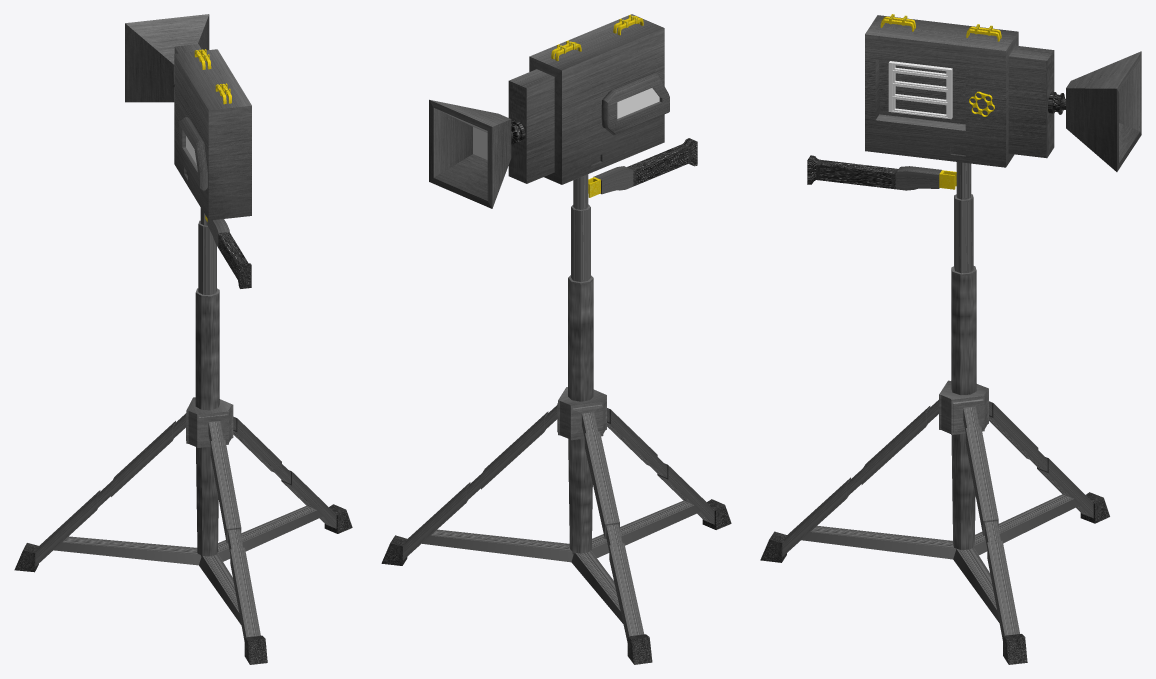
The model's file is tripie2.obj.
The picture shows the model from 3 angles, left to right: view 1: azimuth 30°, elevation 25°; view 2: azimuth 150°, elevation 25°; view 3: azimuth 270°, elevation 25°; orthographic projection. The views are drawn at different scales.
Parts seen in each view (by area): view 1: polySurface41 polySurface111, polySurface41 polySurface66, polySurface41 polySurface75, polySurface41 polySurface48, polySurface41 polySurface103, polySurface41 polySurface54, polySurface41 polySurface92, polySurface41 polySurface76; view 2: polySurface41 polySurface66, polySurface41 polySurface111, polySurface41 polySurface75, polySurface41 polySurface103, polySurface41 polySurface54, polySurface41 polySurface109, polySurface41 polySurface48, polySurface41 polySurface117, polySurface41 polySurface71, polySurface41 polySurface69, polySurface41 polySurface63; view 3: polySurface41 polySurface66, polySurface41 polySurface111, polySurface41 polySurface75, polySurface41 polySurface48, polySurface41 polySurface54, polySurface41 polySurface83, polySurface41 polySurface107, polySurface41 polySurface96, polySurface41 polySurface92.
Part boxes in pixels (box(x1,y1,x2,y2)): polySurface41 polySurface111: box(35, 397, 336, 641); polySurface41 polySurface66: box(174, 44, 251, 220); polySurface41 polySurface75: box(195, 208, 219, 556); polySurface41 polySurface48: box(127, 14, 208, 102); polySurface41 polySurface103: box(179, 117, 207, 190); polySurface41 polySurface54: box(207, 219, 251, 288); polySurface41 polySurface92: box(168, 16, 204, 46); polySurface41 polySurface76: box(244, 635, 267, 664); polySurface41 polySurface66: box(508, 14, 664, 184); polySurface41 polySurface111: box(403, 387, 714, 642); polySurface41 polySurface75: box(568, 174, 593, 554); polySurface41 polySurface103: box(601, 72, 669, 135); polySurface41 polySurface54: box(593, 138, 697, 194); polySurface41 polySurface109: box(436, 109, 470, 175); polySurface41 polySurface48: box(432, 100, 511, 206); polySurface41 polySurface117: box(436, 154, 483, 189); polySurface41 polySurface71: box(627, 634, 652, 664); polySurface41 polySurface69: box(460, 113, 492, 208); polySurface41 polySurface63: box(462, 160, 487, 198); polySurface41 polySurface66: box(865, 15, 1054, 167); polySurface41 polySurface111: box(782, 380, 1093, 640); polySurface41 polySurface75: box(951, 162, 976, 549); polySurface41 polySurface48: box(1066, 52, 1138, 170); polySurface41 polySurface54: box(807, 155, 941, 190); polySurface41 polySurface83: box(888, 61, 952, 119); polySurface41 polySurface107: box(1119, 64, 1137, 130); polySurface41 polySurface96: box(1003, 634, 1027, 664); polySurface41 polySurface92: box(1066, 70, 1129, 169).
Size of the model in its own units: 1.69 by 2.85 by 1.78.
Materials: 17 (16 with a texture image).
